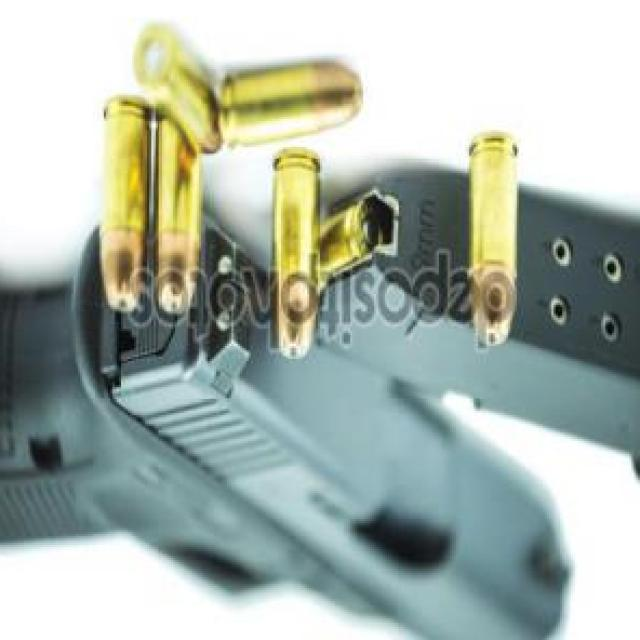pistol: (0, 225, 569, 640)
